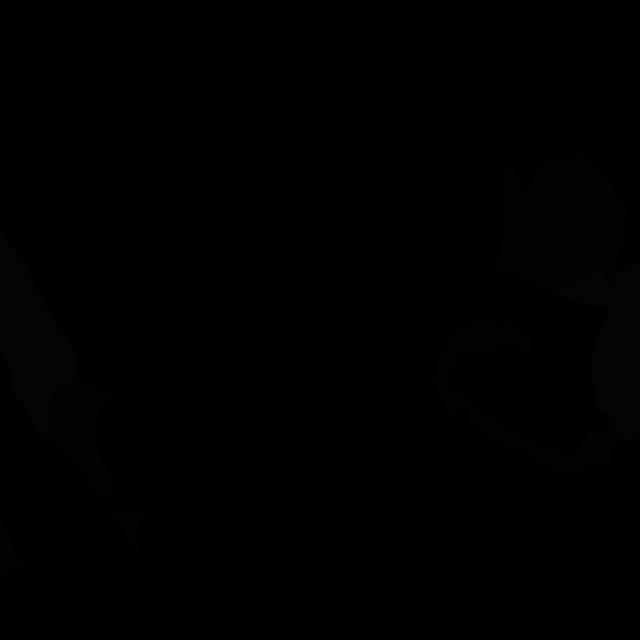cardboard: (494, 148, 628, 293), (461, 389, 619, 477), (434, 317, 533, 417), (48, 377, 119, 503), (0, 515, 35, 577), (110, 504, 144, 552)
rigid_plastic: (0, 0, 90, 102)
soft_plastic: (0, 230, 78, 443), (552, 263, 640, 443)
